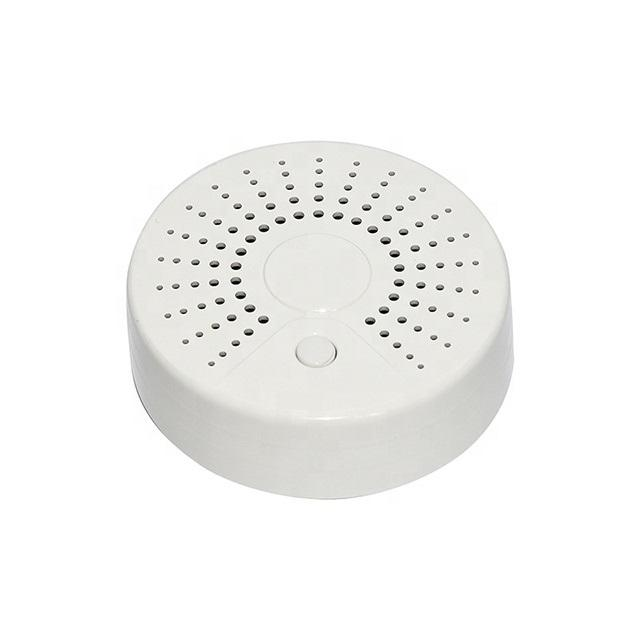Smoke-Detector: (122, 140, 514, 497)
